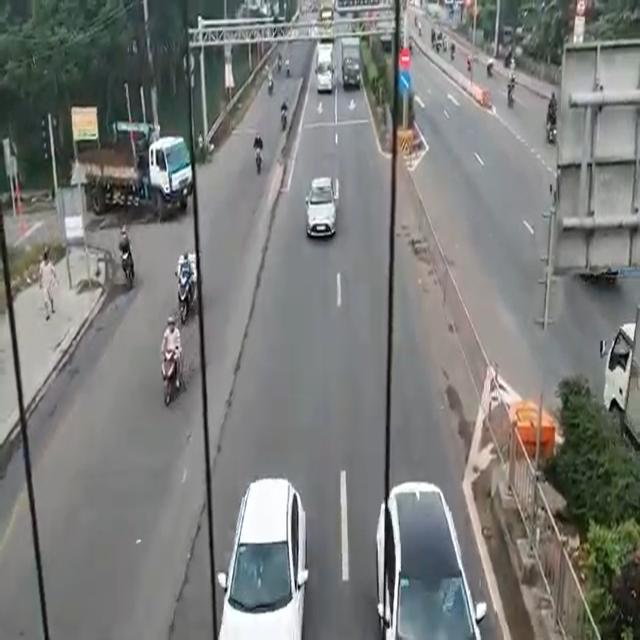car: (383, 486, 466, 640), (236, 478, 303, 636), (308, 172, 332, 235)
motor: (157, 318, 179, 404), (118, 226, 133, 294), (178, 250, 191, 324), (256, 131, 264, 178)
truck: (78, 129, 195, 208), (342, 38, 362, 96), (318, 44, 335, 107)
